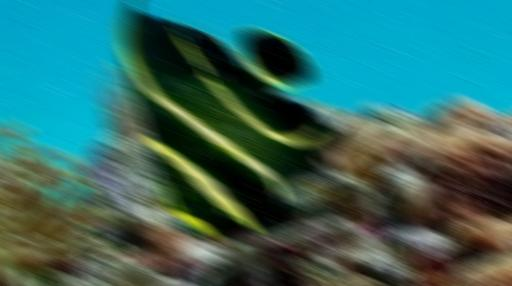Fish: (119, 0, 348, 235)
